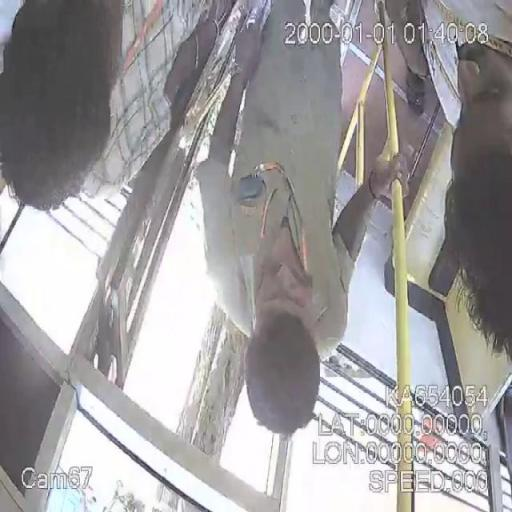persona: (178, 2, 408, 452), (8, 0, 191, 219), (418, 2, 512, 346)
